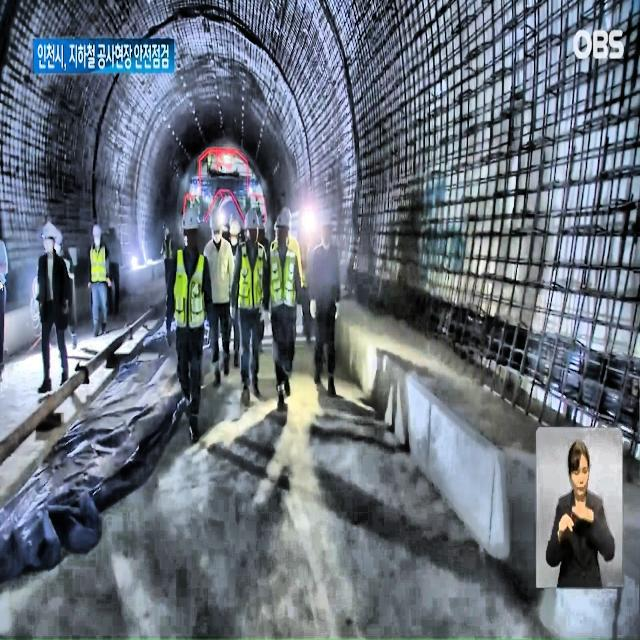safety_helmet: (181, 208, 200, 232), (274, 208, 291, 234), (318, 207, 336, 229), (243, 208, 260, 230), (208, 206, 223, 230), (228, 218, 242, 236), (40, 221, 55, 236), (54, 228, 64, 244), (258, 215, 266, 231), (92, 224, 102, 236), (108, 221, 118, 230), (163, 226, 170, 236)
safety_jacket: (174, 248, 206, 330), (238, 240, 265, 312), (270, 247, 297, 308), (90, 245, 108, 284), (162, 238, 175, 261)
